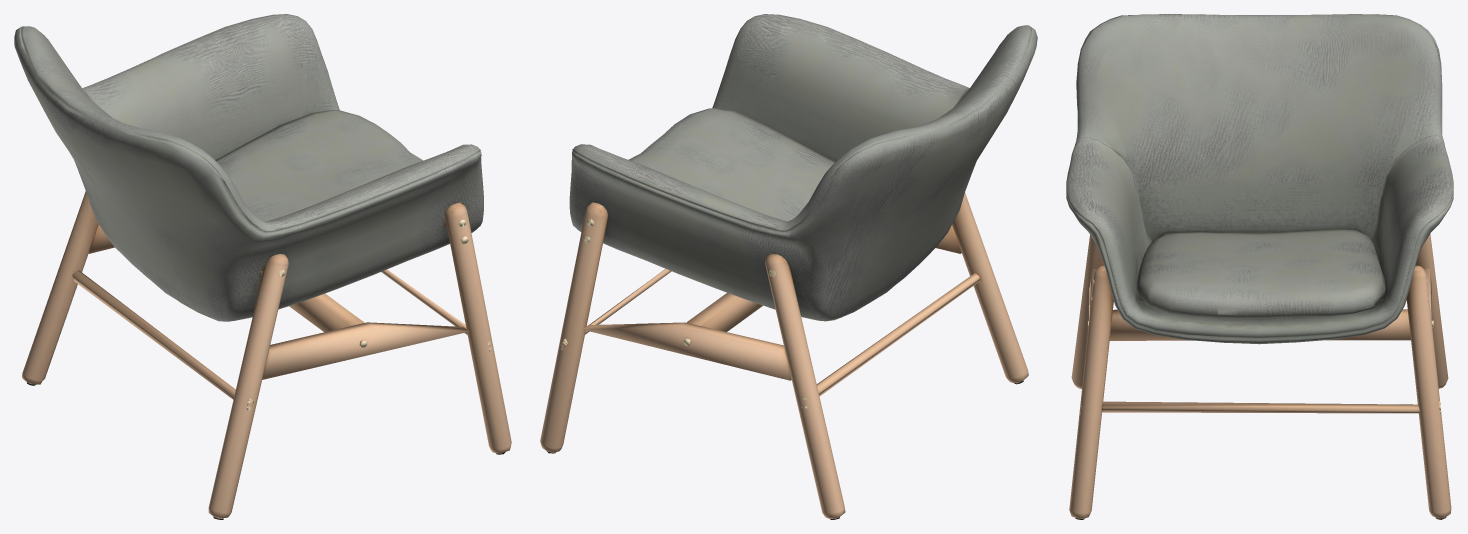
File: chair.glb
The picture shows the model from 3 angles, left to right: view 1: azimuth 30°, elevation 25°; view 2: azimuth 150°, elevation 25°; view 3: azimuth 270°, elevation 25°; orthographic projection. The views are drawn at different scales.
Parts seen in each view (by area): view 1: tripo_node_c1e50b06-f635-468f-b0bb-069ff1fd7b21; view 2: tripo_node_c1e50b06-f635-468f-b0bb-069ff1fd7b21; view 3: tripo_node_c1e50b06-f635-468f-b0bb-069ff1fd7b21.
Part boxes in pixels (x1,y1,x2,y2): tripo_node_c1e50b06-f635-468f-b0bb-069ff1fd7b21: (14, 14, 511, 519); tripo_node_c1e50b06-f635-468f-b0bb-069ff1fd7b21: (540, 14, 1037, 519); tripo_node_c1e50b06-f635-468f-b0bb-069ff1fd7b21: (1066, 14, 1453, 519).
Size of the model in its own units: 0.9785 by 0.998 by 0.9785.
Materials: 1 (1 with a texture image).
